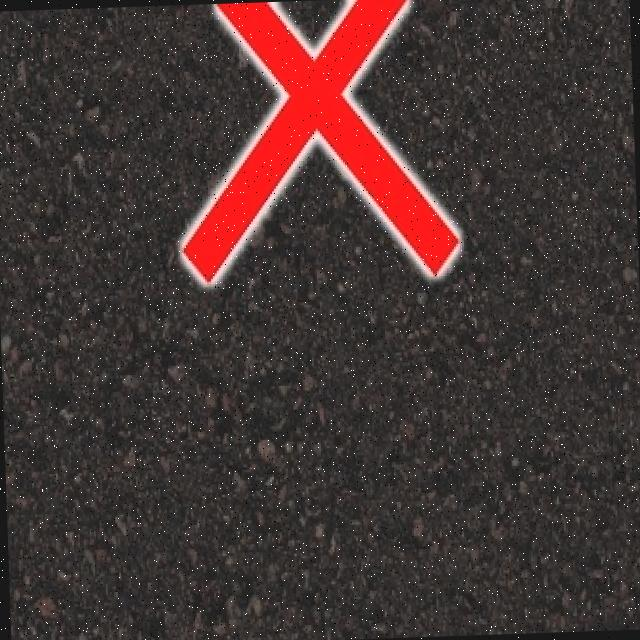x_marker: (174, 0, 457, 279)
